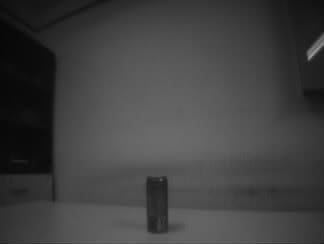Tin can: (145, 175, 170, 234)
